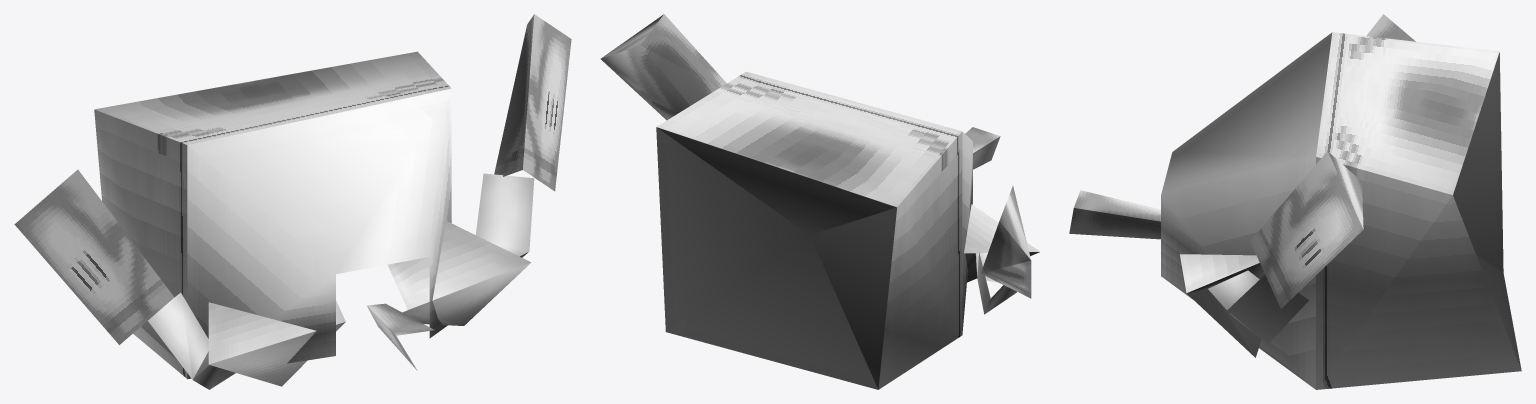
The model's file is torso_ss_250.glb.
The picture shows the model from 3 angles, left to right: view 1: azimuth 30°, elevation 25°; view 2: azimuth 150°, elevation 25°; view 3: azimuth 270°, elevation 25°; orthographic projection. The views are drawn at different scales.
Visible parts, largest first — view 1: torso-top, torso-bot, hands (×2), sleeves, arms, neck; view 2: torso-bot, hands (×2), sleeves, torso-top, arms, neck; view 3: torso-bot, torso-top, hands (×2), sleeves, arms, neck.
Part boxes in pixels (x1,y1,x2,y2): torso-top: [187, 88, 451, 379]; torso-bot: [94, 51, 451, 378]; hands (×2): [14, 14, 571, 344]; sleeves: [208, 221, 531, 386]; arms: [141, 173, 534, 389]; neck: [367, 303, 434, 370]; torso-bot: [656, 71, 962, 389]; hands (×2): [600, 14, 1031, 298]; sleeves: [964, 204, 1040, 282]; torso-top: [962, 131, 972, 334]; arms: [975, 252, 1016, 314]; neck: [965, 127, 1000, 169]; torso-bot: [1316, 32, 1521, 389]; torso-top: [1161, 32, 1332, 389]; hands (×2): [1250, 14, 1415, 308]; sleeves: [1179, 254, 1264, 357]; arms: [1208, 270, 1308, 343]; neck: [1069, 190, 1160, 239].
Bounding box in the file's own units: 3.43 × 1.78 × 2.57.
6 materials, 6 textured.
